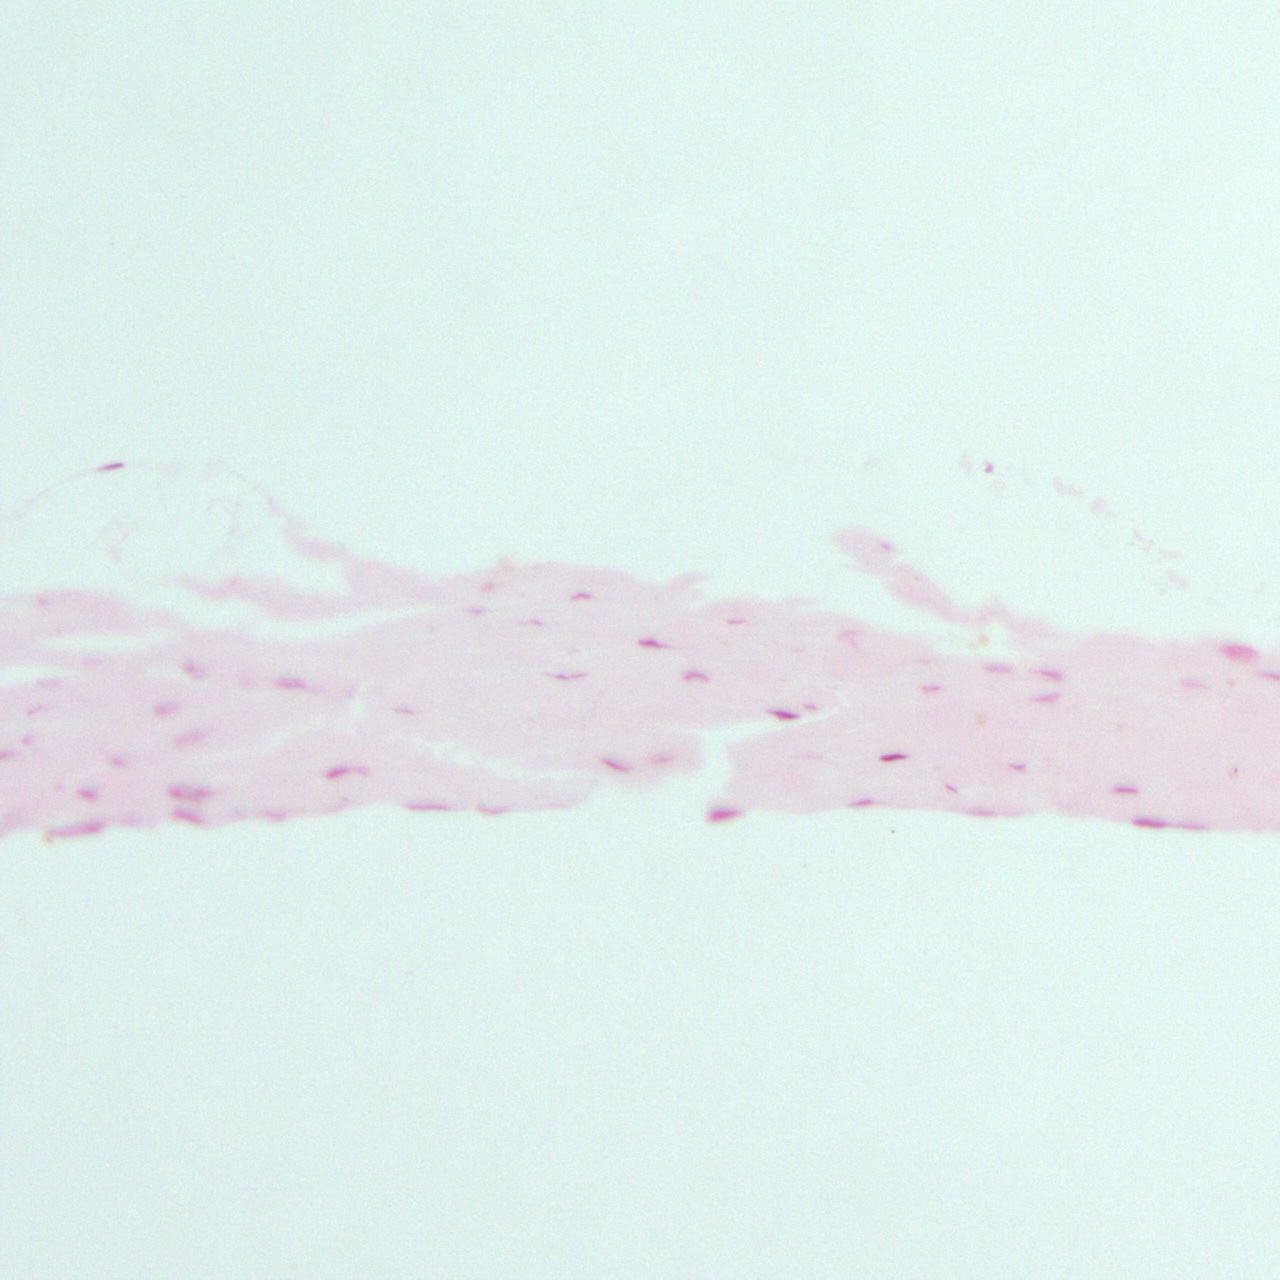nucleus-AC: (53, 821, 104, 840), (172, 806, 207, 830), (173, 728, 205, 751), (600, 755, 631, 776), (324, 764, 352, 781), (95, 459, 127, 474), (1032, 690, 1058, 706), (1223, 647, 1254, 660), (707, 809, 737, 822), (181, 662, 203, 680), (768, 708, 799, 720), (1178, 681, 1216, 690), (549, 672, 591, 680), (406, 802, 447, 810), (274, 678, 306, 688), (1130, 819, 1167, 828), (476, 804, 508, 813), (154, 703, 178, 715), (982, 663, 1013, 673), (638, 639, 667, 648), (35, 679, 62, 688), (1114, 785, 1139, 795), (850, 797, 872, 808), (683, 673, 712, 681), (880, 753, 908, 761), (1039, 669, 1060, 680), (26, 704, 45, 716), (945, 783, 961, 796), (188, 788, 207, 798), (570, 593, 593, 601), (478, 583, 496, 593), (20, 733, 34, 745), (268, 811, 287, 821), (350, 765, 369, 775), (969, 810, 998, 816), (392, 707, 415, 714), (524, 619, 544, 627), (79, 790, 97, 798), (113, 758, 127, 769), (170, 787, 183, 797), (921, 686, 941, 692), (467, 608, 485, 614), (726, 619, 744, 625), (1009, 764, 1024, 771), (879, 543, 893, 550), (804, 704, 817, 712), (983, 464, 993, 472)
